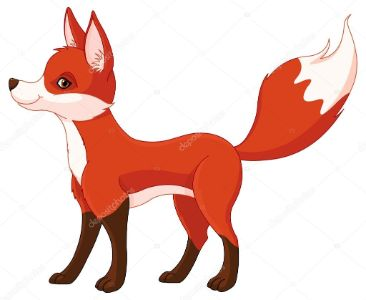fox: (4, 1, 361, 292)
